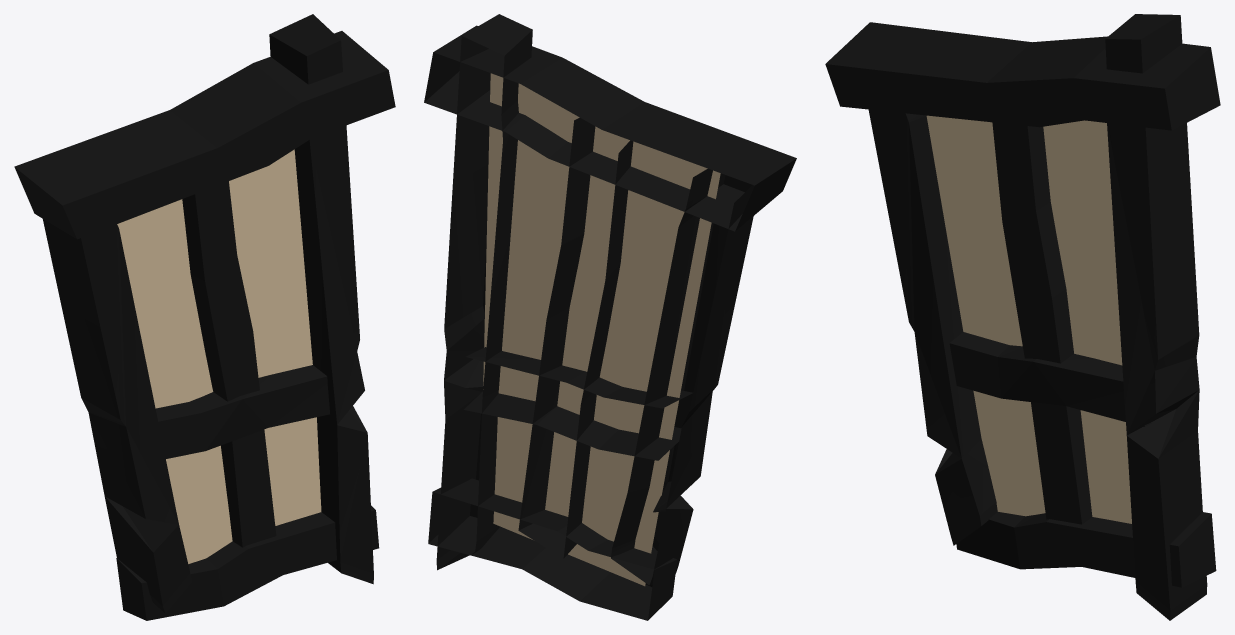
Rendered from WF_LP_HT_Build_Window.004.fbx.
3 renders of one model, left to right at view 1: azimuth 30°, elevation 25°; view 2: azimuth 150°, elevation 25°; view 3: azimuth 330°, elevation 25°, orthographic. The views are drawn at different scales.
Visible parts, largest first — view 1: WF_LP_HT_Build_Window.004; view 2: WF_LP_HT_Build_Window.004; view 3: WF_LP_HT_Build_Window.004.
Boxes of the visible parts, left/top/right/bottom form: WF_LP_HT_Build_Window.004: left=14, top=14, right=395, bottom=620; WF_LP_HT_Build_Window.004: left=424, top=14, right=796, bottom=620; WF_LP_HT_Build_Window.004: left=825, top=14, right=1220, bottom=620.
Bounding box in the file's own units: 1.29 × 2.01 × 0.3033.
